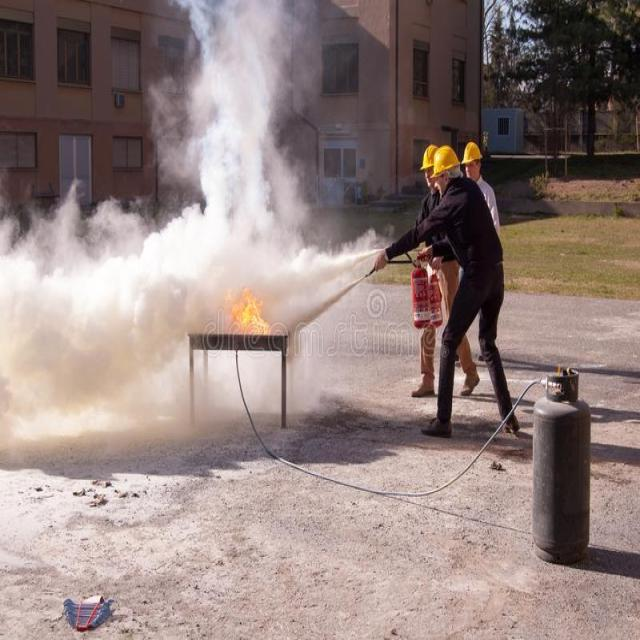fire_extinguisher: (422, 263, 446, 326), (408, 249, 426, 330)
